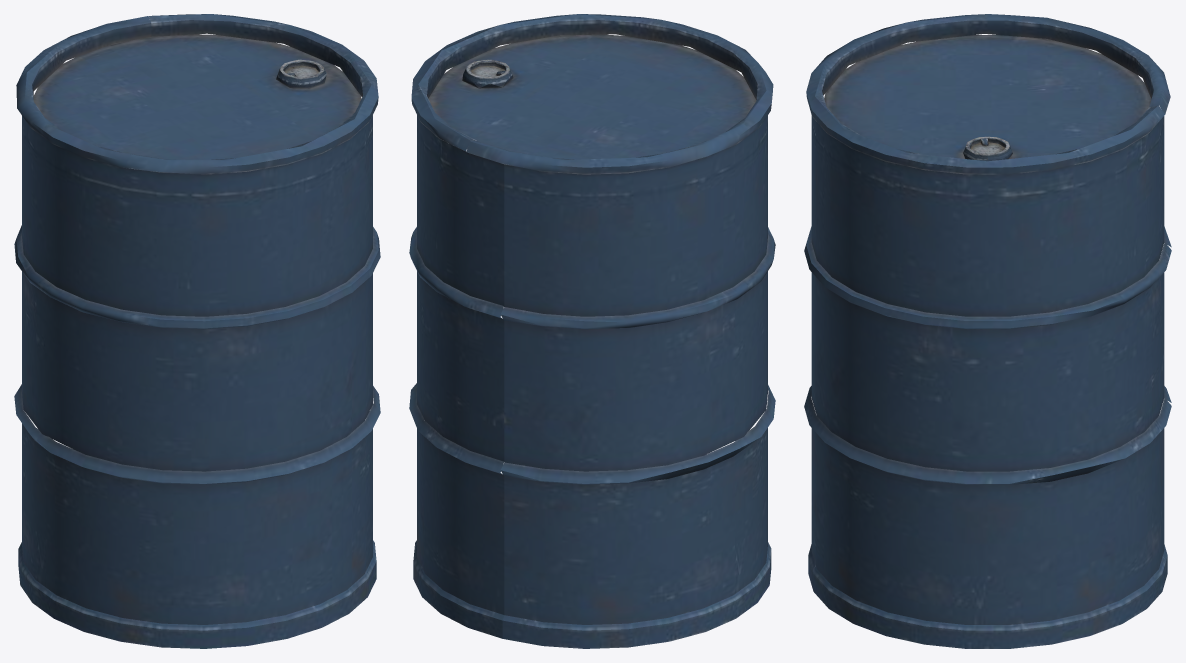
The model's file is barrel.glb.
3 renders of one model, left to right at view 1: azimuth 30°, elevation 25°; view 2: azimuth 150°, elevation 25°; view 3: azimuth 270°, elevation 25°, orthographic.
Parts seen in each view (by area): view 1: barrel; view 2: barrel; view 3: barrel.
Part boxes in pixels (bbox=[...]): barrel: bbox=[14, 14, 380, 648]; barrel: bbox=[409, 14, 775, 648]; barrel: bbox=[804, 14, 1171, 648].
Size of the model in its own units: 0.6336 by 0.9306 by 0.6381.
Materials: 1 (1 with a texture image).
